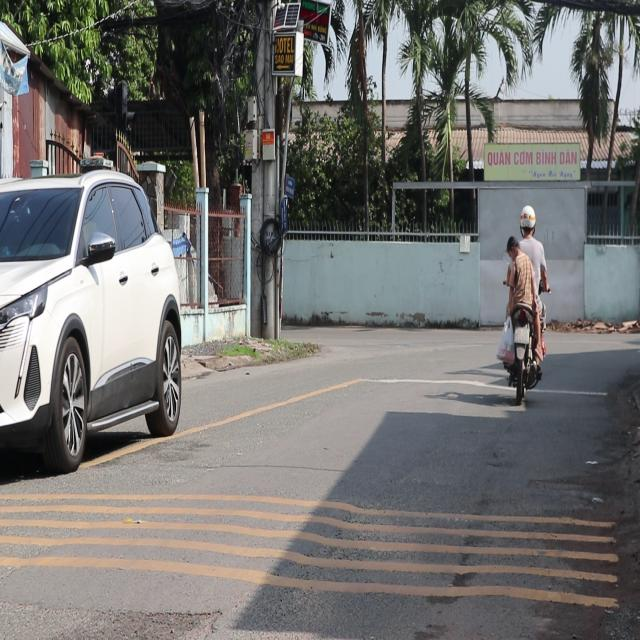helmet: (518, 203, 536, 236)
licenseplate: (496, 201, 549, 398)
motorcyclist: (505, 236, 521, 258)
nohelmet: (514, 327, 529, 343)
